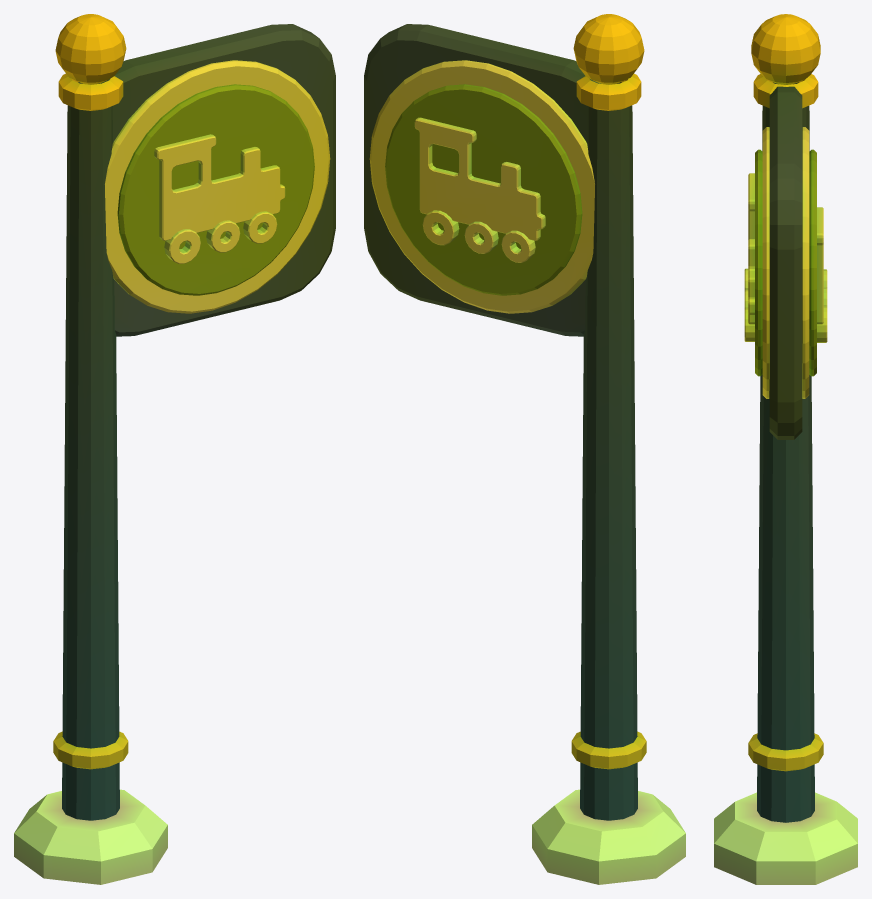
Rendered from Service_StopMarker.fbx.
The picture shows the model from 3 angles, left to right: view 1: azimuth 30°, elevation 25°; view 2: azimuth 150°, elevation 25°; view 3: azimuth 270°, elevation 25°; orthographic projection.
Parts seen in each view (by area): view 1: Service_StopMarker; view 2: Service_StopMarker; view 3: Service_StopMarker.
Part boxes in pixels (left/top/right/bottom): Service_StopMarker: left=14, top=14, right=335, bottom=884; Service_StopMarker: left=364, top=14, right=685, bottom=884; Service_StopMarker: left=714, top=14, right=857, bottom=884.
Size of the model in its own units: 0.5409 by 1.42 by 0.2217.
